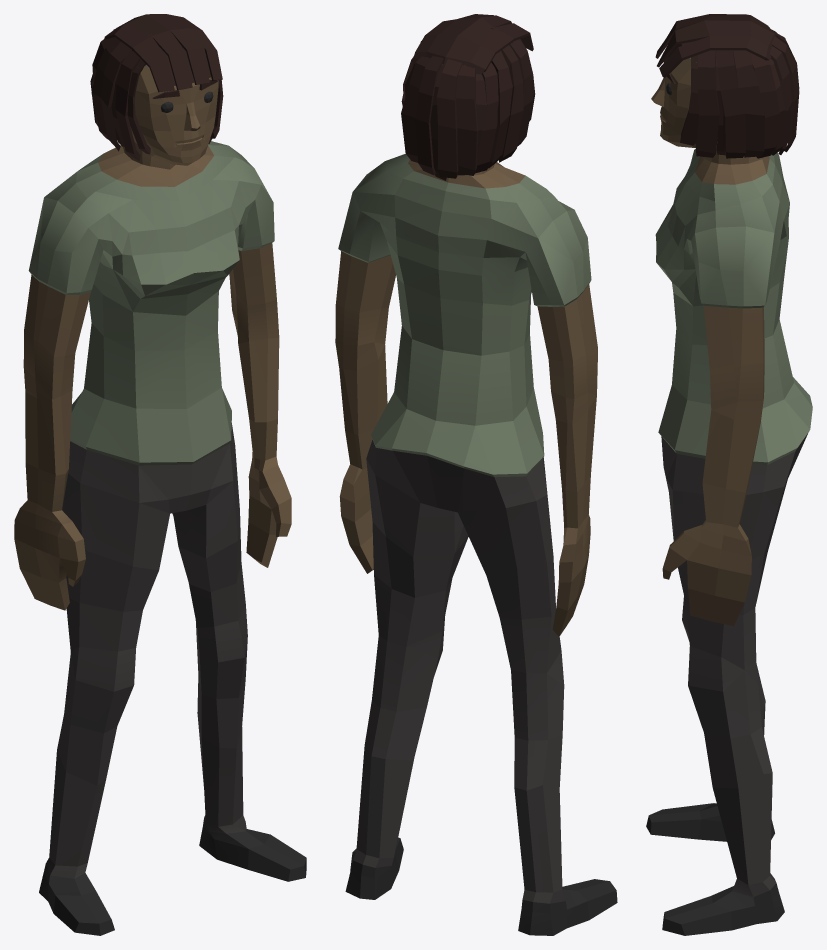
File: civilian-woman.glb
The picture shows the model from 3 angles, left to right: view 1: azimuth 30°, elevation 25°; view 2: azimuth 150°, elevation 25°; view 3: azimuth 270°, elevation 25°; orthographic projection. The views are drawn at different scales.
Parts seen in each view (by area): view 1: Female; view 2: Female; view 3: Female.
Part boxes in pixels (bbox=[...]): Female: bbox=[14, 14, 306, 935]; Female: bbox=[335, 14, 617, 935]; Female: bbox=[646, 14, 812, 935].
Bounding box in the file's own units: 1.41 × 4.64 × 0.8189.
